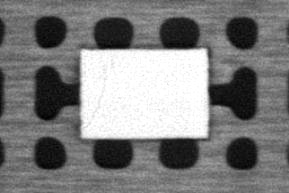DIE_CRACK: (82, 58, 111, 127)
